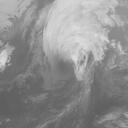cyclone: (43, 4, 103, 82)
